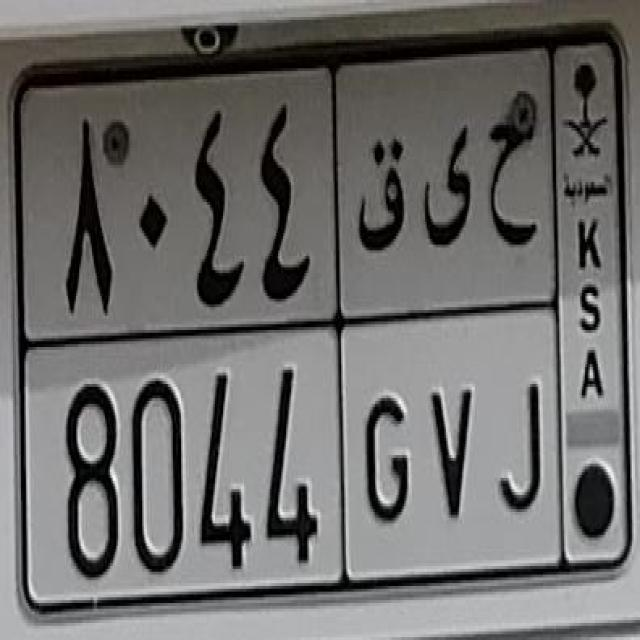license_plate: (14, 27, 633, 620)
